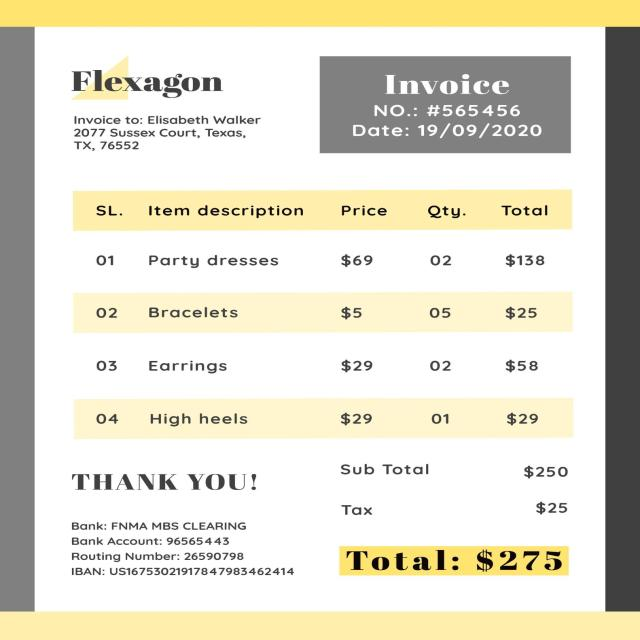paragraph: (334, 462, 579, 581), (67, 517, 301, 578), (345, 70, 549, 139), (71, 114, 264, 156), (66, 468, 267, 500), (72, 70, 223, 98)
table: (72, 191, 570, 444)
